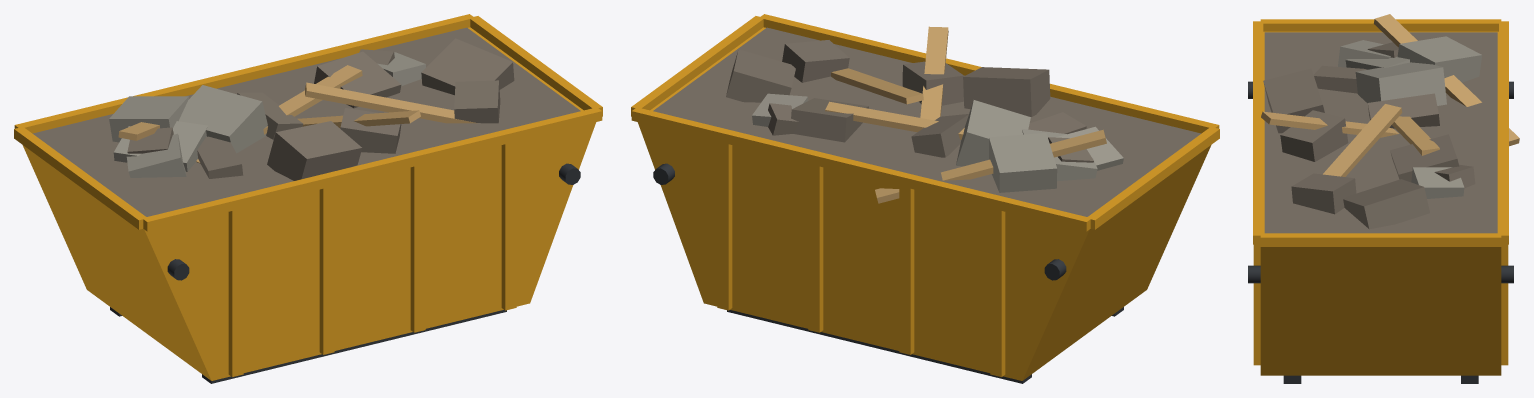
The model's file is gs-skip.glb.
3 renders of one model, left to right at view 1: azimuth 30°, elevation 25°; view 2: azimuth 150°, elevation 25°; view 3: azimuth 270°, elevation 25°, orthographic. The views are drawn at different scales.
Visible parts, largest first — view 1: gs-skip; view 2: gs-skip; view 3: gs-skip.
Boxes of the visible parts, <box> form: gs-skip: <box>14,14,602,383</box>; gs-skip: <box>631,14,1219,383</box>; gs-skip: <box>1248,14,1519,383</box>.
Size of the model in its own units: 4.08 by 1.93 by 2.15.
